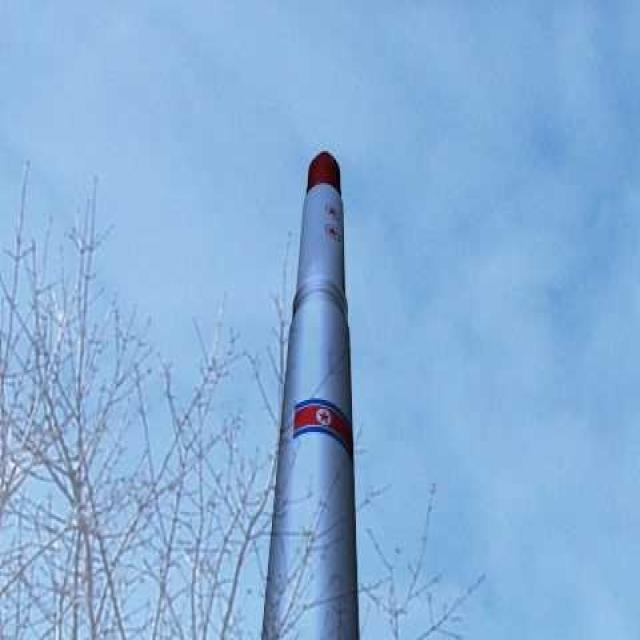missile: (257, 146, 360, 640)
